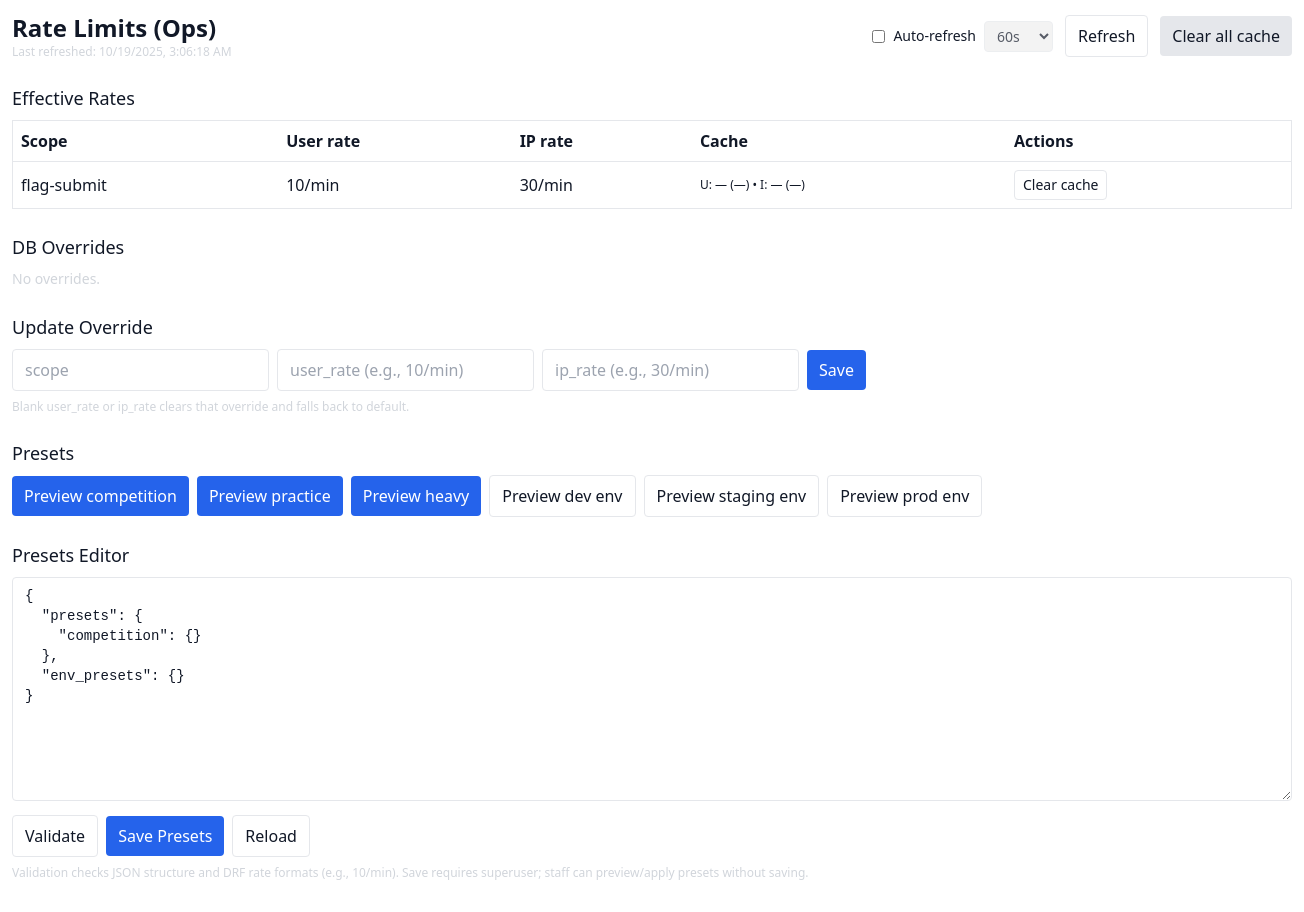
Test: Ops Rate Limits failure cases › Presets validation failure shows error toast
The width and height of the screenshot is (1304, 912).
Check: the heading "Rate Limits (Ops)" is shown, box [12, 12, 232, 44]
Click the button "Validate": (55, 836) [12, 815, 98, 857]
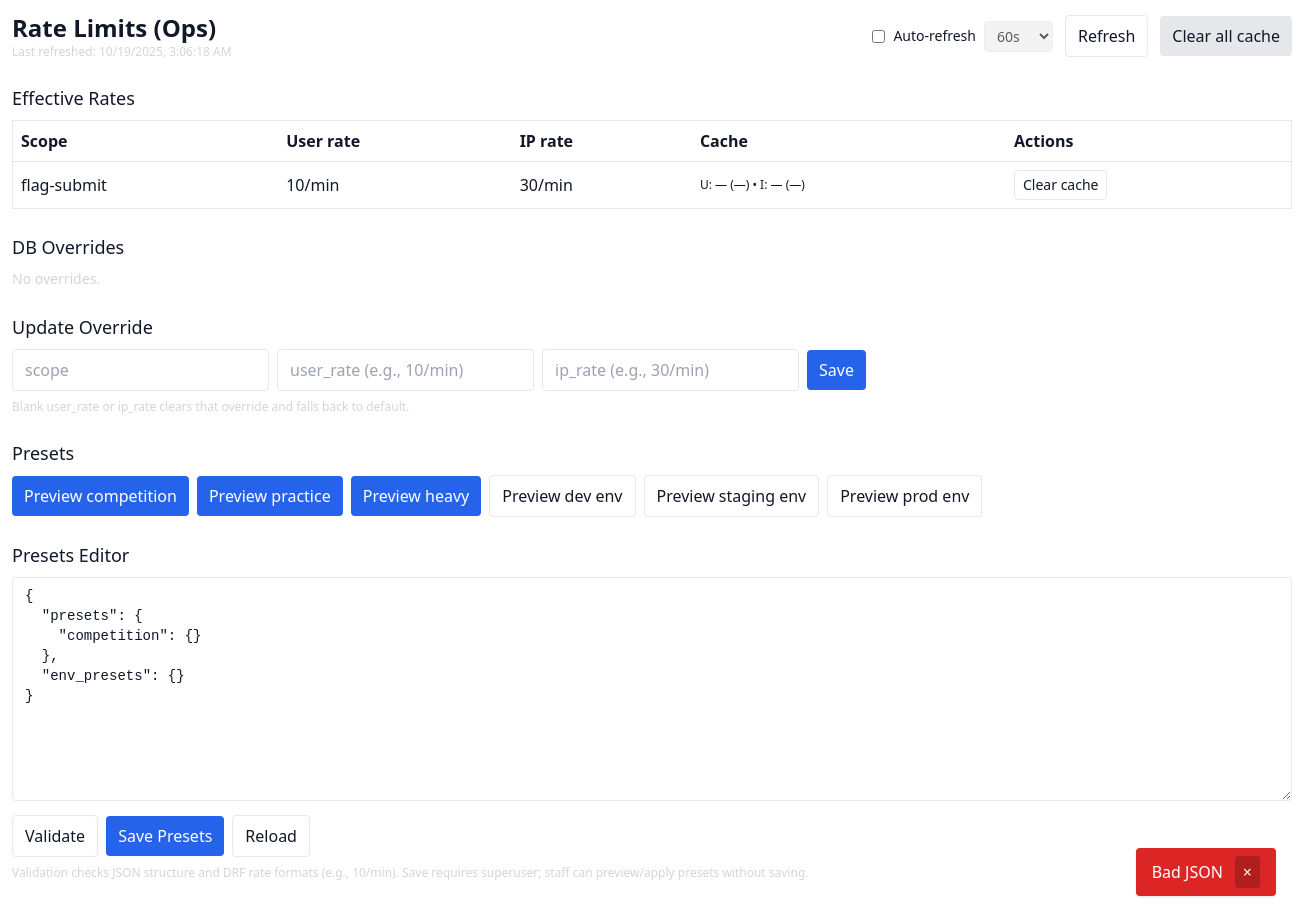
Check: the text "Bad JSON" is shown, box [1152, 860, 1223, 884]
